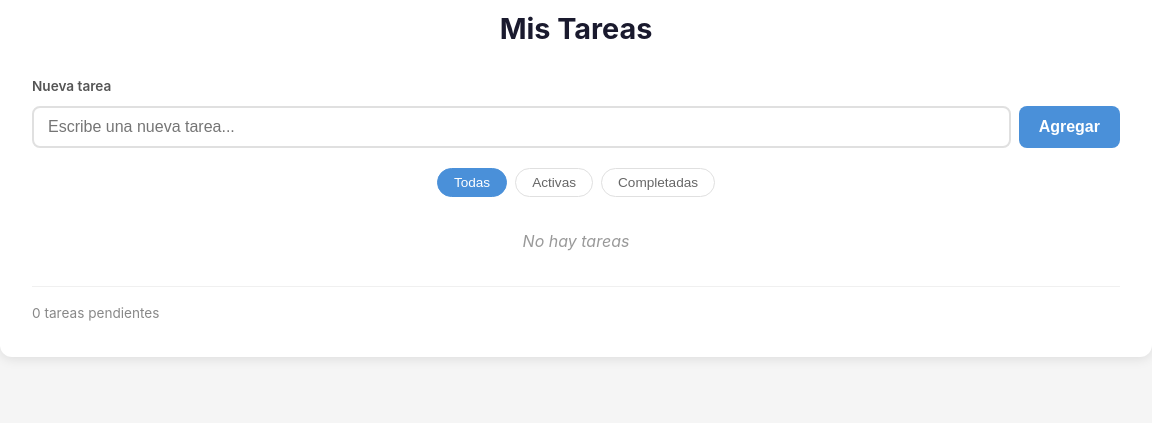
Test case: TodoApp › Cuando el usuario limpia las tareas completadas › deberia eliminar las completadas y mantener las pendientes
The width and height of the screenshot is (1152, 423).
In the field labelled "Nueva tarea": (521, 127) left=32, top=106, right=1011, bottom=148, type "Tarea que completare"
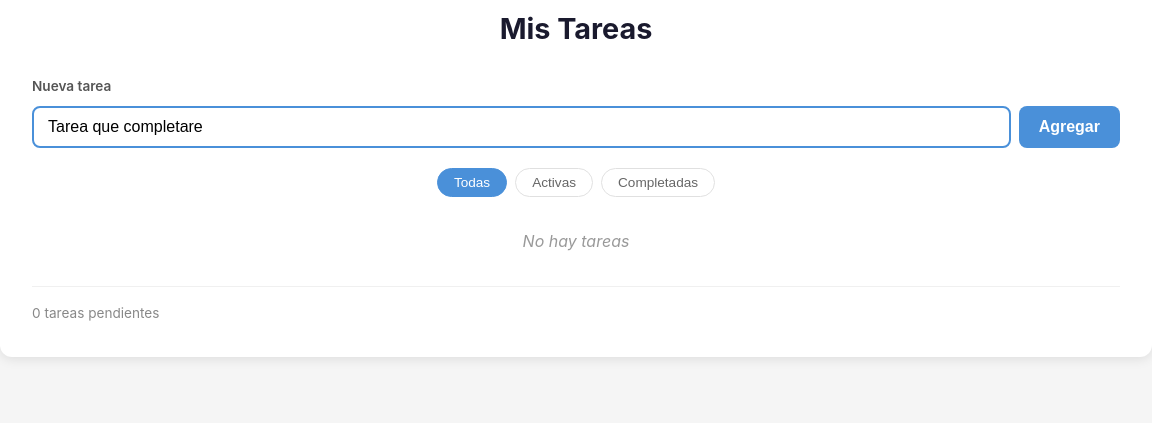
Click the button "Agregar": (1069, 127) left=1019, top=106, right=1120, bottom=148
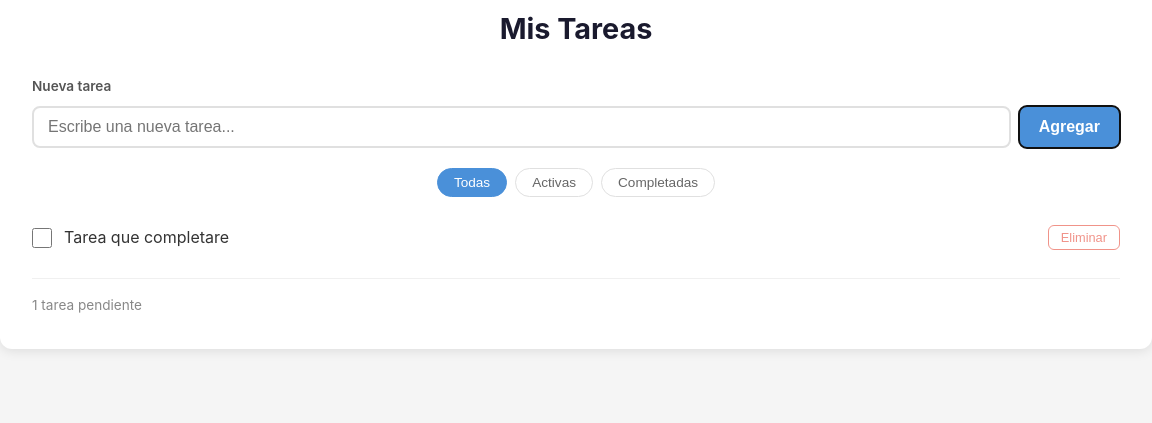
In the field labelled "Nueva tarea": (521, 127) left=32, top=106, right=1011, bottom=148, type "Tarea que mantendre pendiente"
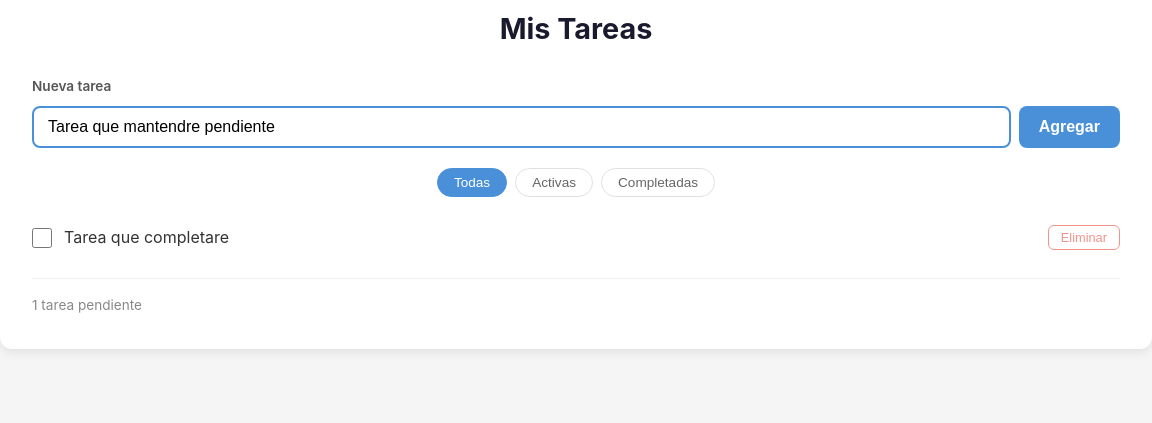
Click the button "Agregar": (1069, 127) left=1019, top=106, right=1120, bottom=148
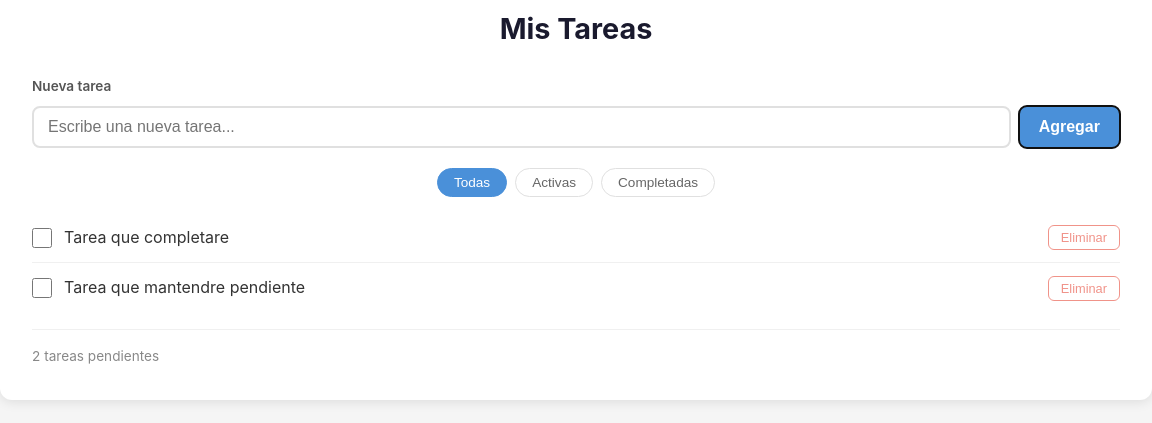
Click the checkbox labelled "Tarea que completare": (42, 238) left=32, top=228, right=52, bottom=248
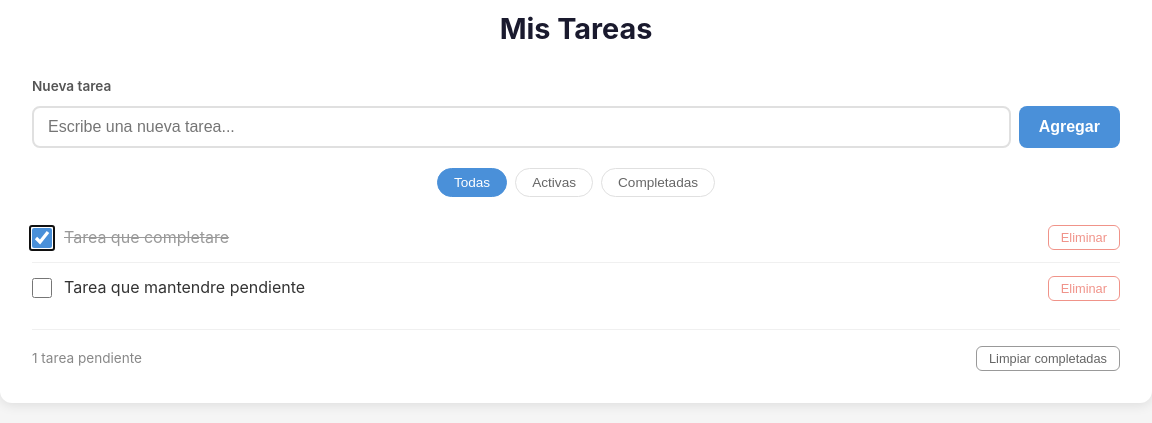
Click the button "Limpiar completadas": (1048, 358) left=976, top=346, right=1120, bottom=371
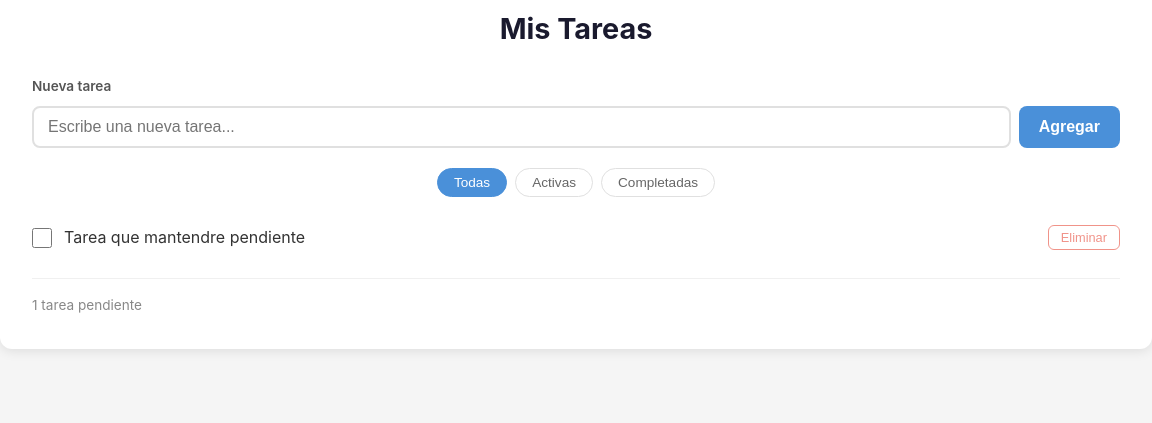
Now the text "Tarea que mantendre pendiente" is shown, box left=64, top=225, right=305, bottom=250
Now the text "Tarea que completare" is gone
Now the button "Limpiar completadas" is gone
